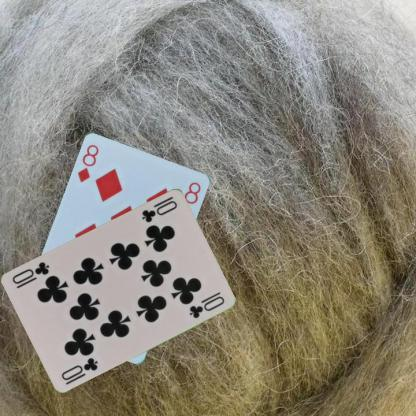10c: (58, 354, 100, 386), (139, 198, 179, 224)
8d: (75, 142, 101, 184)
